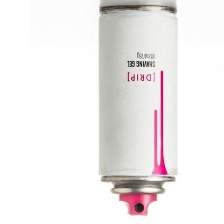aerosol_cans: (94, 2, 181, 219)
